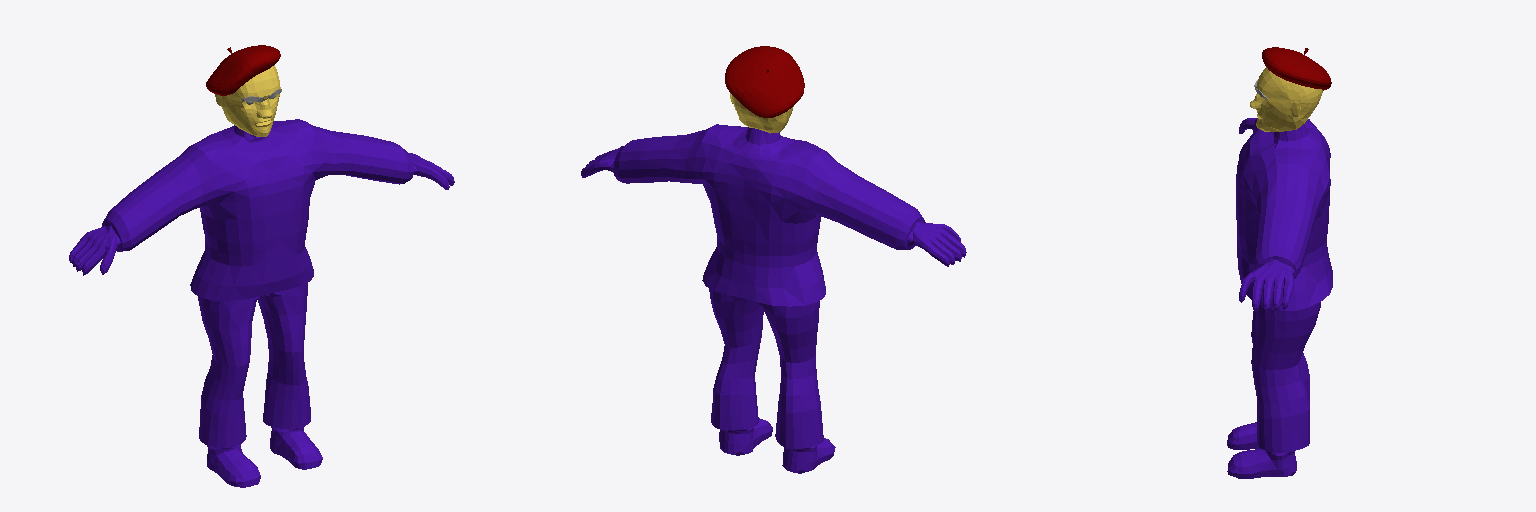
File: jacqueswithbody35.obj
The picture shows the model from 3 angles: view 1: azimuth 30°, elevation 25°; view 2: azimuth 150°, elevation 25°; view 3: azimuth 270°, elevation 25°; orthographic projection.
Visible parts, largest first — view 1: body, head, hat; view 2: body, hat, head; view 3: body, head, hat.
Boxes of the visible parts, x1=… form: body: x1=69, y1=119, x2=454, y2=487; head: x1=215, y1=65, x2=280, y2=136; hat: x1=206, y1=45, x2=280, y2=95; body: x1=581, y1=124, x2=966, y2=473; hat: x1=725, y1=46, x2=804, y2=117; head: x1=730, y1=93, x2=793, y2=133; body: x1=1227, y1=118, x2=1332, y2=478; head: x1=1250, y1=67, x2=1322, y2=131; hat: x1=1262, y1=47, x2=1331, y2=90.
Size of the model in its own units: 197 by 207 by 48.34.